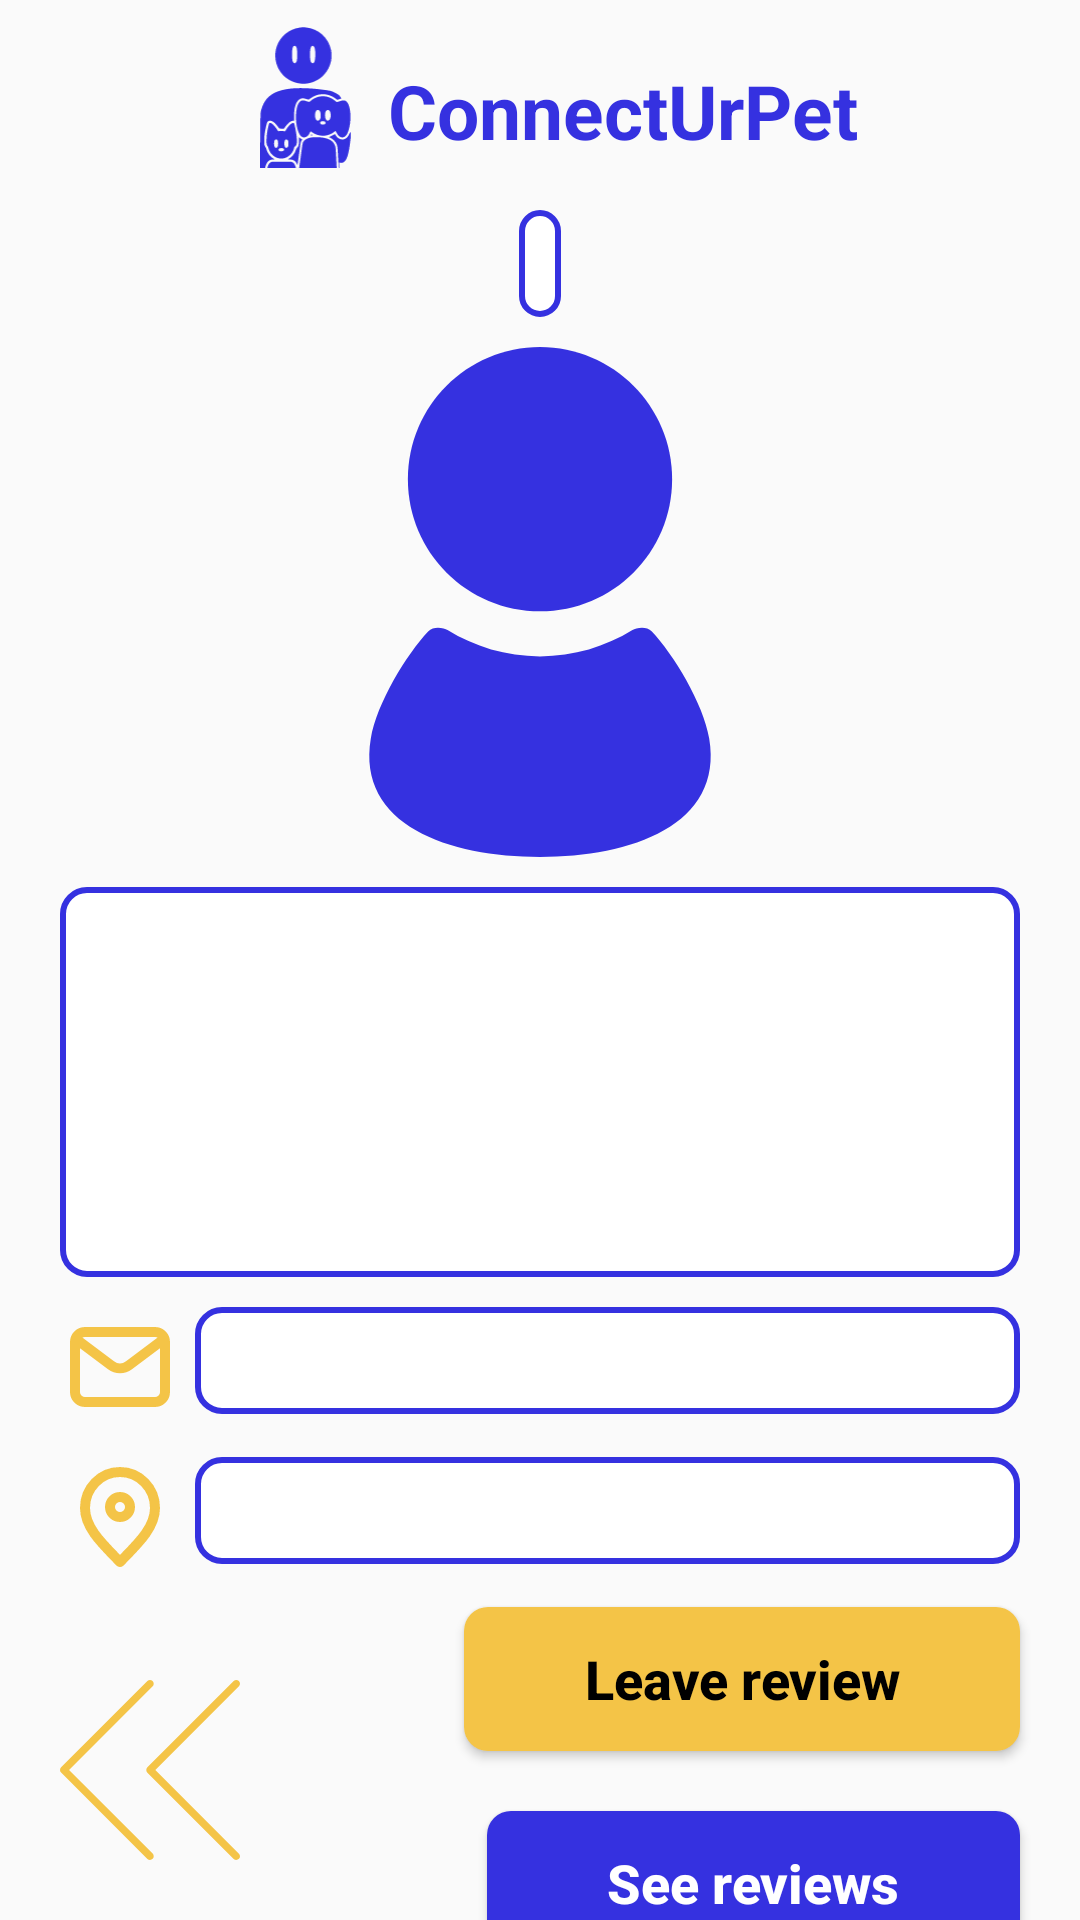

Icons on this 1080w x 1920h Android screen, each with the point to tap as point (x, y):
email: point (120, 1367)
location: point (120, 1517)
